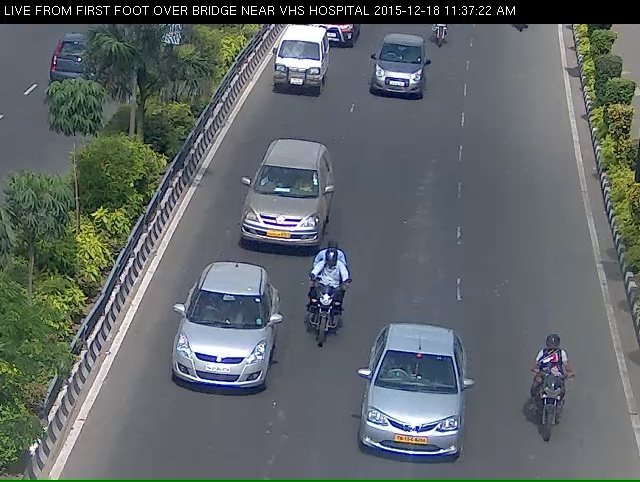Car: (159, 280, 278, 445), (341, 356, 476, 481), (224, 154, 324, 269), (353, 38, 435, 122), (265, 35, 324, 111), (300, 22, 370, 57), (298, 23, 370, 57)
Person: (528, 356, 583, 476), (300, 268, 349, 372), (422, 25, 465, 56)
